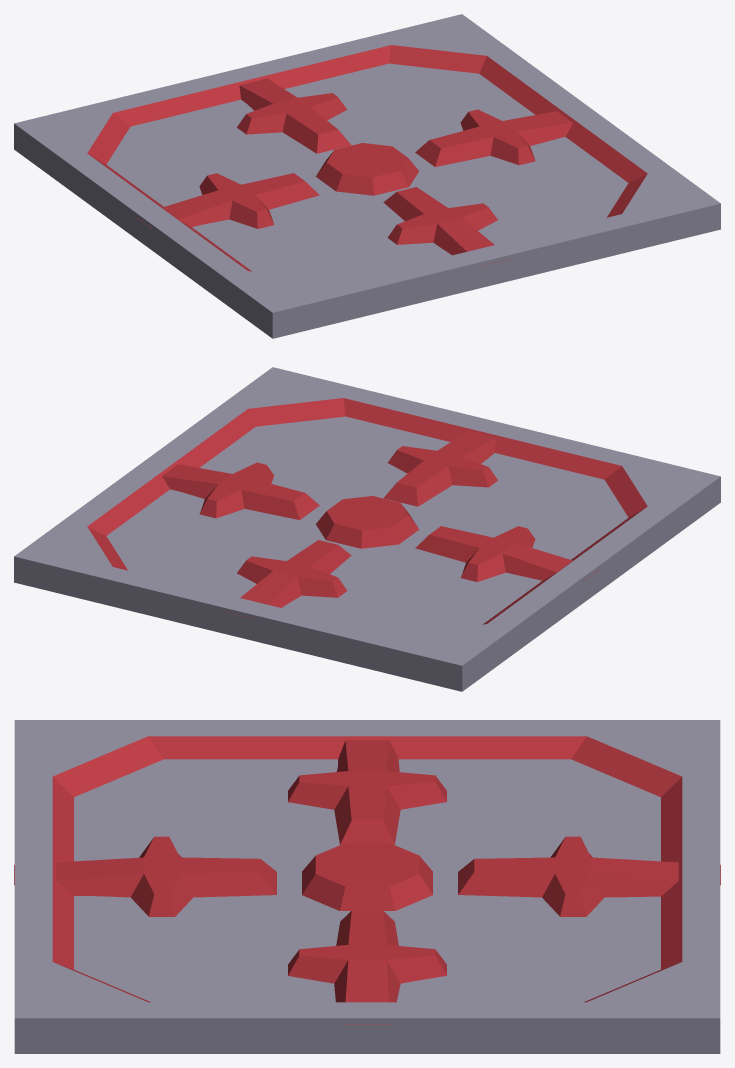
File: TileTarget.fbx
The picture shows the model from 3 angles, top to bottom: view 1: azimuth 30°, elevation 25°; view 2: azimuth 150°, elevation 25°; view 3: azimuth 270°, elevation 25°; orthographic projection. The views are drawn at different scales.
Parts seen in each view (by area): view 1: TileTarget; view 2: TileTarget; view 3: TileTarget.
Boxes of the visible parts, x1=… form: TileTarget: x1=14, y1=14, x2=720, y2=338; TileTarget: x1=14, y1=367, x2=720, y2=691; TileTarget: x1=14, y1=720, x2=720, y2=1053.
Bounding box in the file's own units: 100 × 6.24 × 100.
